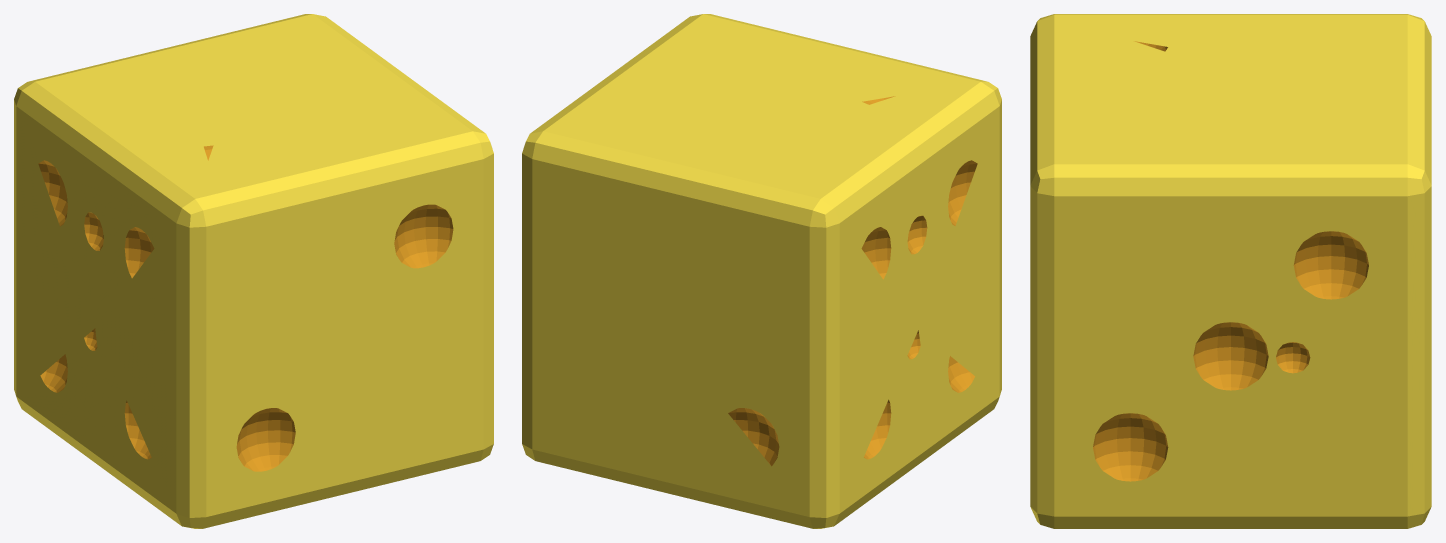
The model's file is Die_Emmental_d6_Lucky9.fbx.
3 views of the same model, side by side, from view 1: azimuth 30°, elevation 25°; view 2: azimuth 150°, elevation 25°; view 3: azimuth 270°, elevation 25° (orthographic). The views are drawn at different scales.
Visible parts, largest first — view 1: Die_Emmental_d6_Lucky9; view 2: Die_Emmental_d6_Lucky9; view 3: Die_Emmental_d6_Lucky9.
Boxes of the visible parts, bbox=[...] form: Die_Emmental_d6_Lucky9: bbox=[14, 14, 493, 528]; Die_Emmental_d6_Lucky9: bbox=[522, 14, 1001, 528]; Die_Emmental_d6_Lucky9: bbox=[1030, 14, 1431, 528].
Size of the model in its own units: 1 by 1 by 1.
